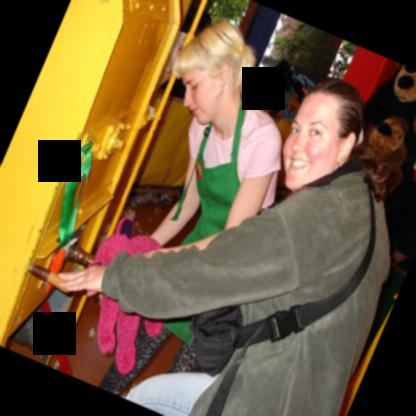handbag: (231, 181, 373, 346), (185, 305, 244, 376)
